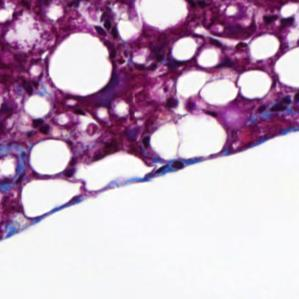inflammation: (193, 17, 264, 48), (253, 92, 299, 120), (89, 10, 121, 43), (26, 116, 56, 138)
